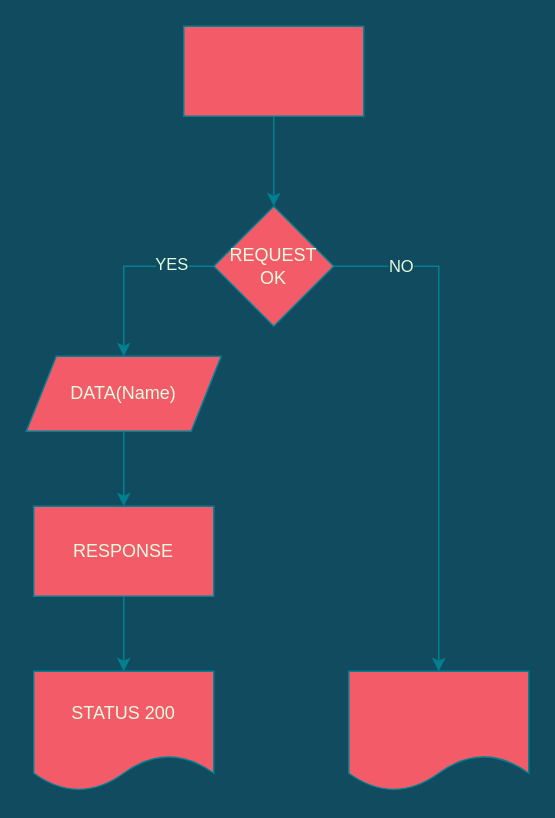
Some shapes in this 555 by 818 pixel diagram are drawn without their labels. Here are the shapes that lost their labels. From the top down, the centre of each, then its label:
At point (273, 70): "API ENDPOINT /users".
At point (438, 730): "STATUS 4XX".
